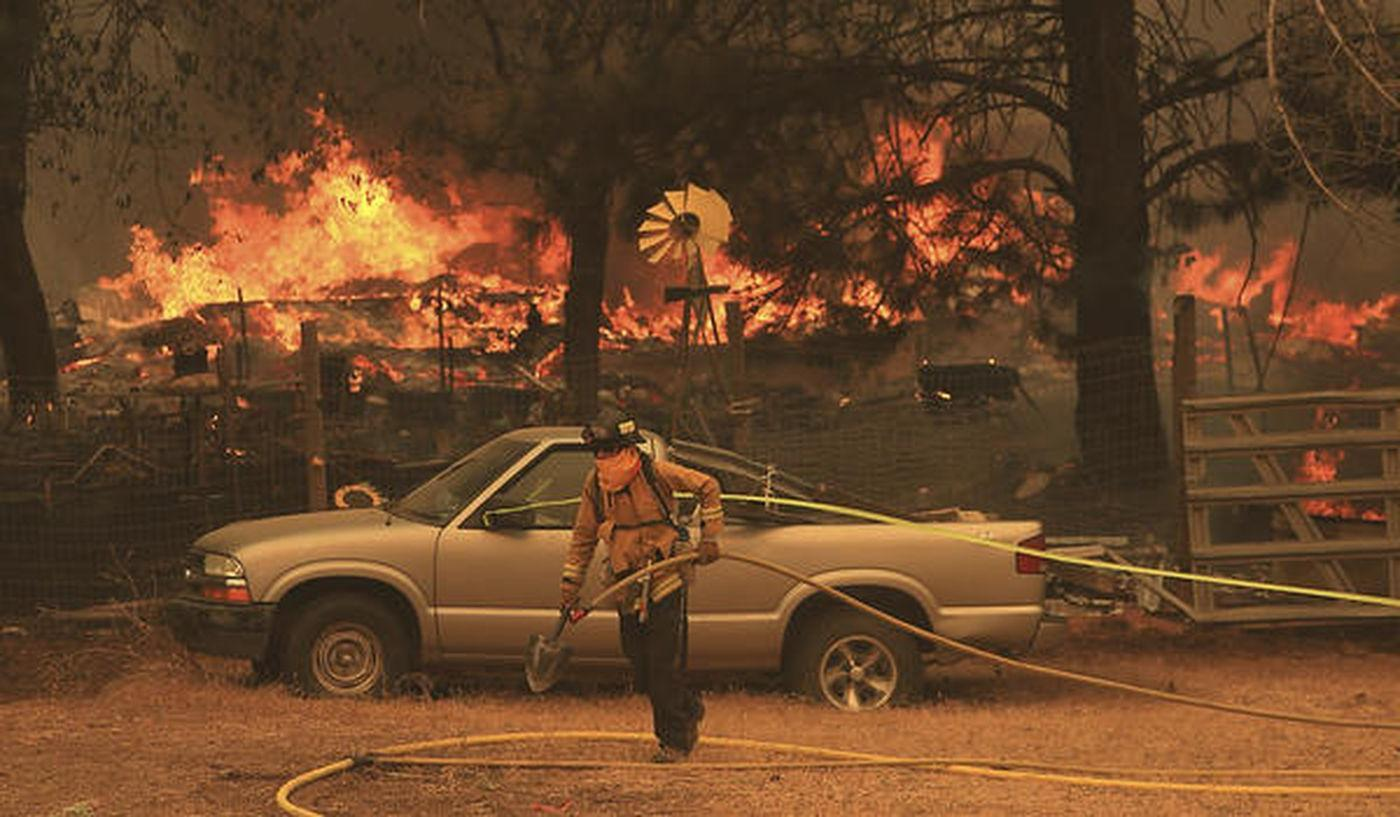Fire: (49, 90, 574, 396), (614, 110, 983, 353), (1171, 227, 1398, 359), (1291, 411, 1388, 521)
